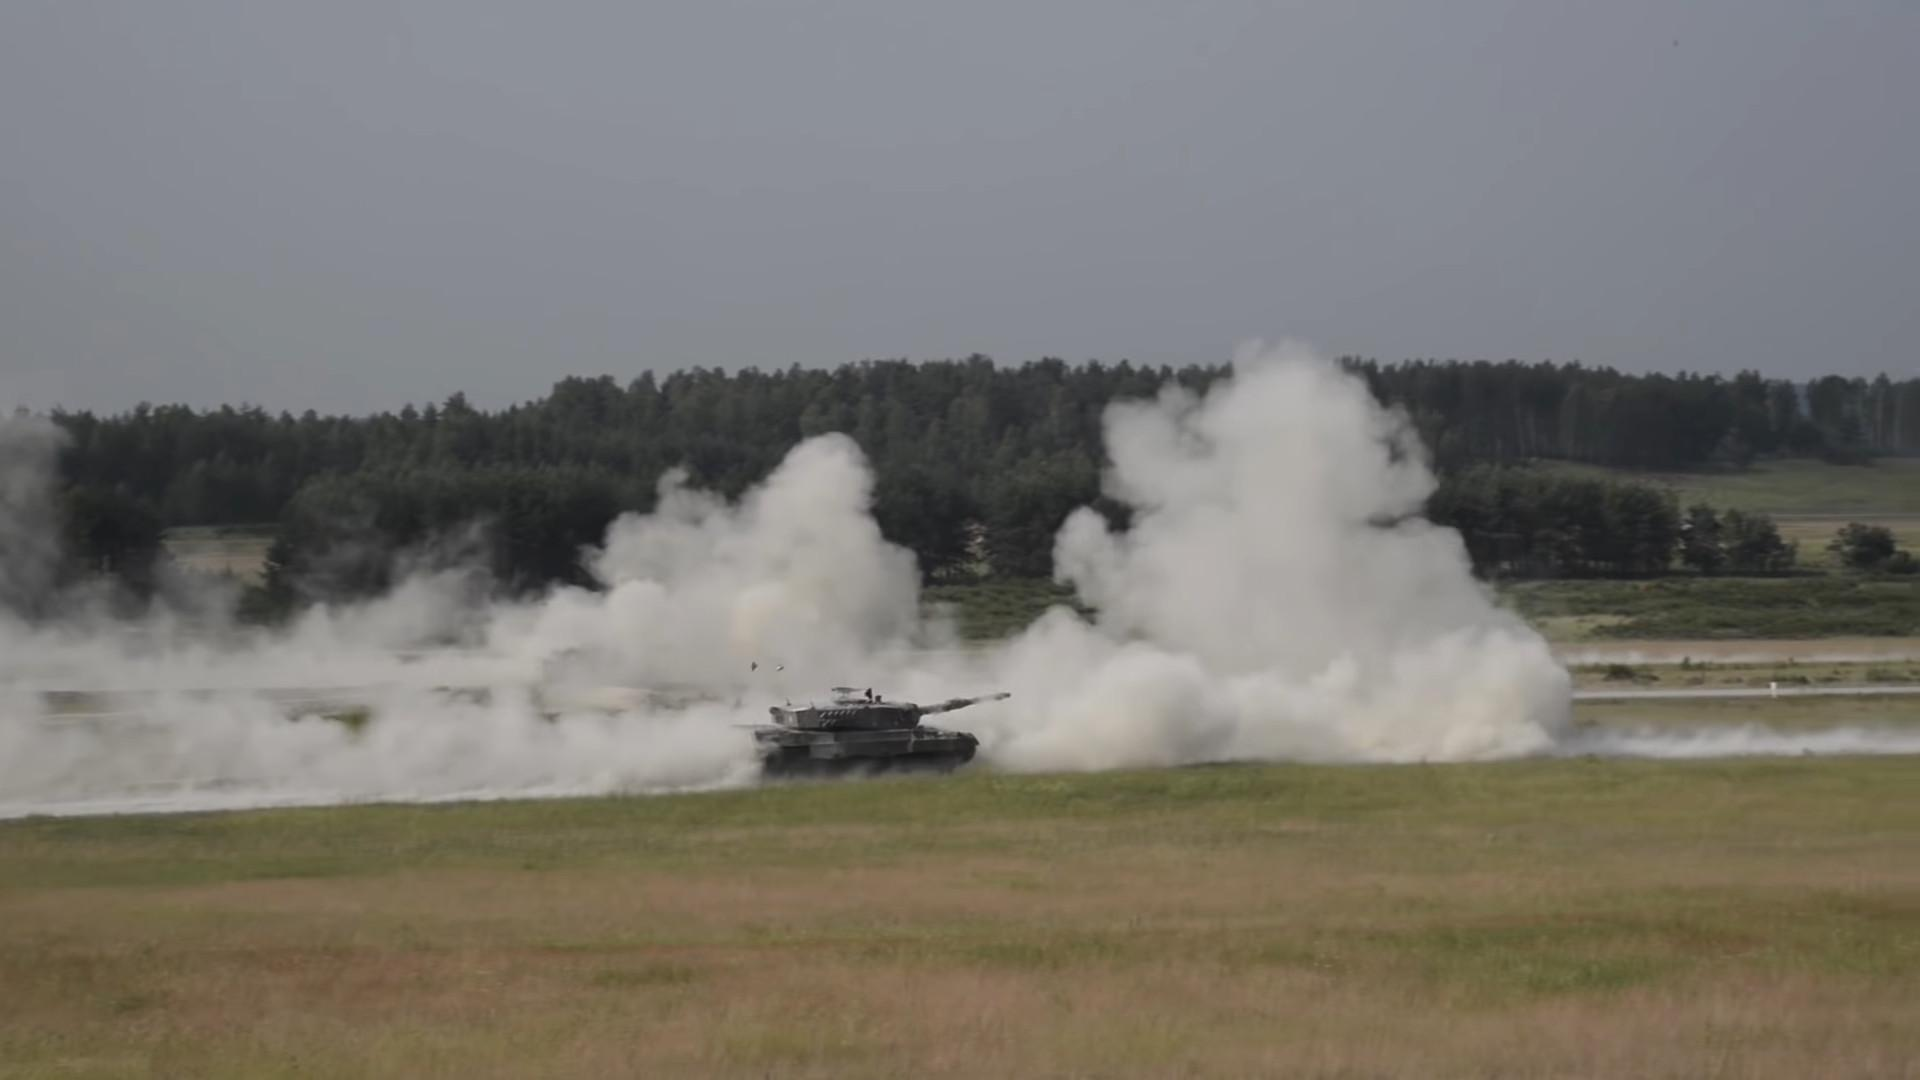tank: (754, 694, 1010, 781)
